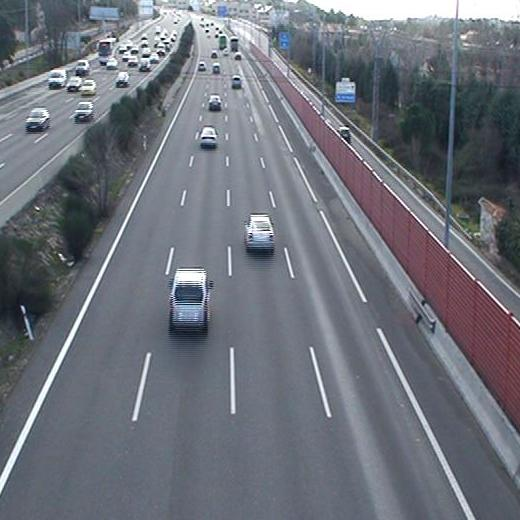car: (243, 214, 275, 250), (199, 127, 218, 146), (208, 94, 221, 110), (211, 62, 221, 74), (231, 75, 240, 87), (198, 62, 205, 71)
van: (168, 268, 210, 334)
